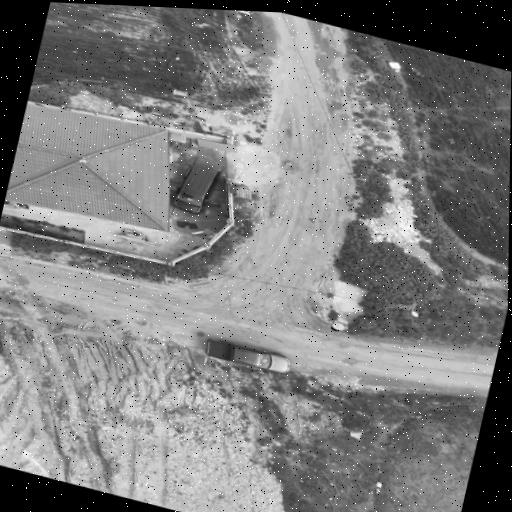car: (172, 165, 219, 214)
truck: (205, 339, 289, 373)
